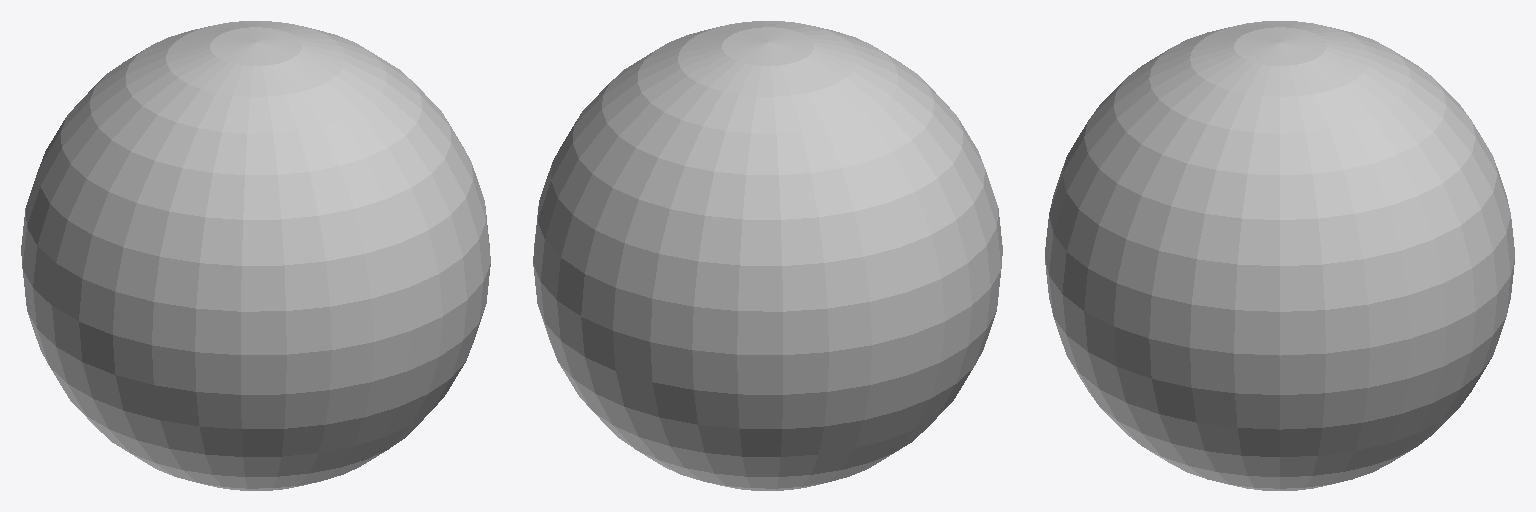
Rendered from bullet.obj.
The picture shows the model from 3 angles: view 1: azimuth 30°, elevation 25°; view 2: azimuth 150°, elevation 25°; view 3: azimuth 270°, elevation 25°; orthographic projection.
Parts seen in each view (by area): view 1: Sphere; view 2: Sphere; view 3: Sphere.
Part boxes in pixels (x1,y1,x2,y2): Sphere: (21, 21, 490, 490); Sphere: (533, 21, 1002, 490); Sphere: (1045, 21, 1514, 490).
Size of the model in its own units: 0.2234 by 0.2234 by 0.2234.